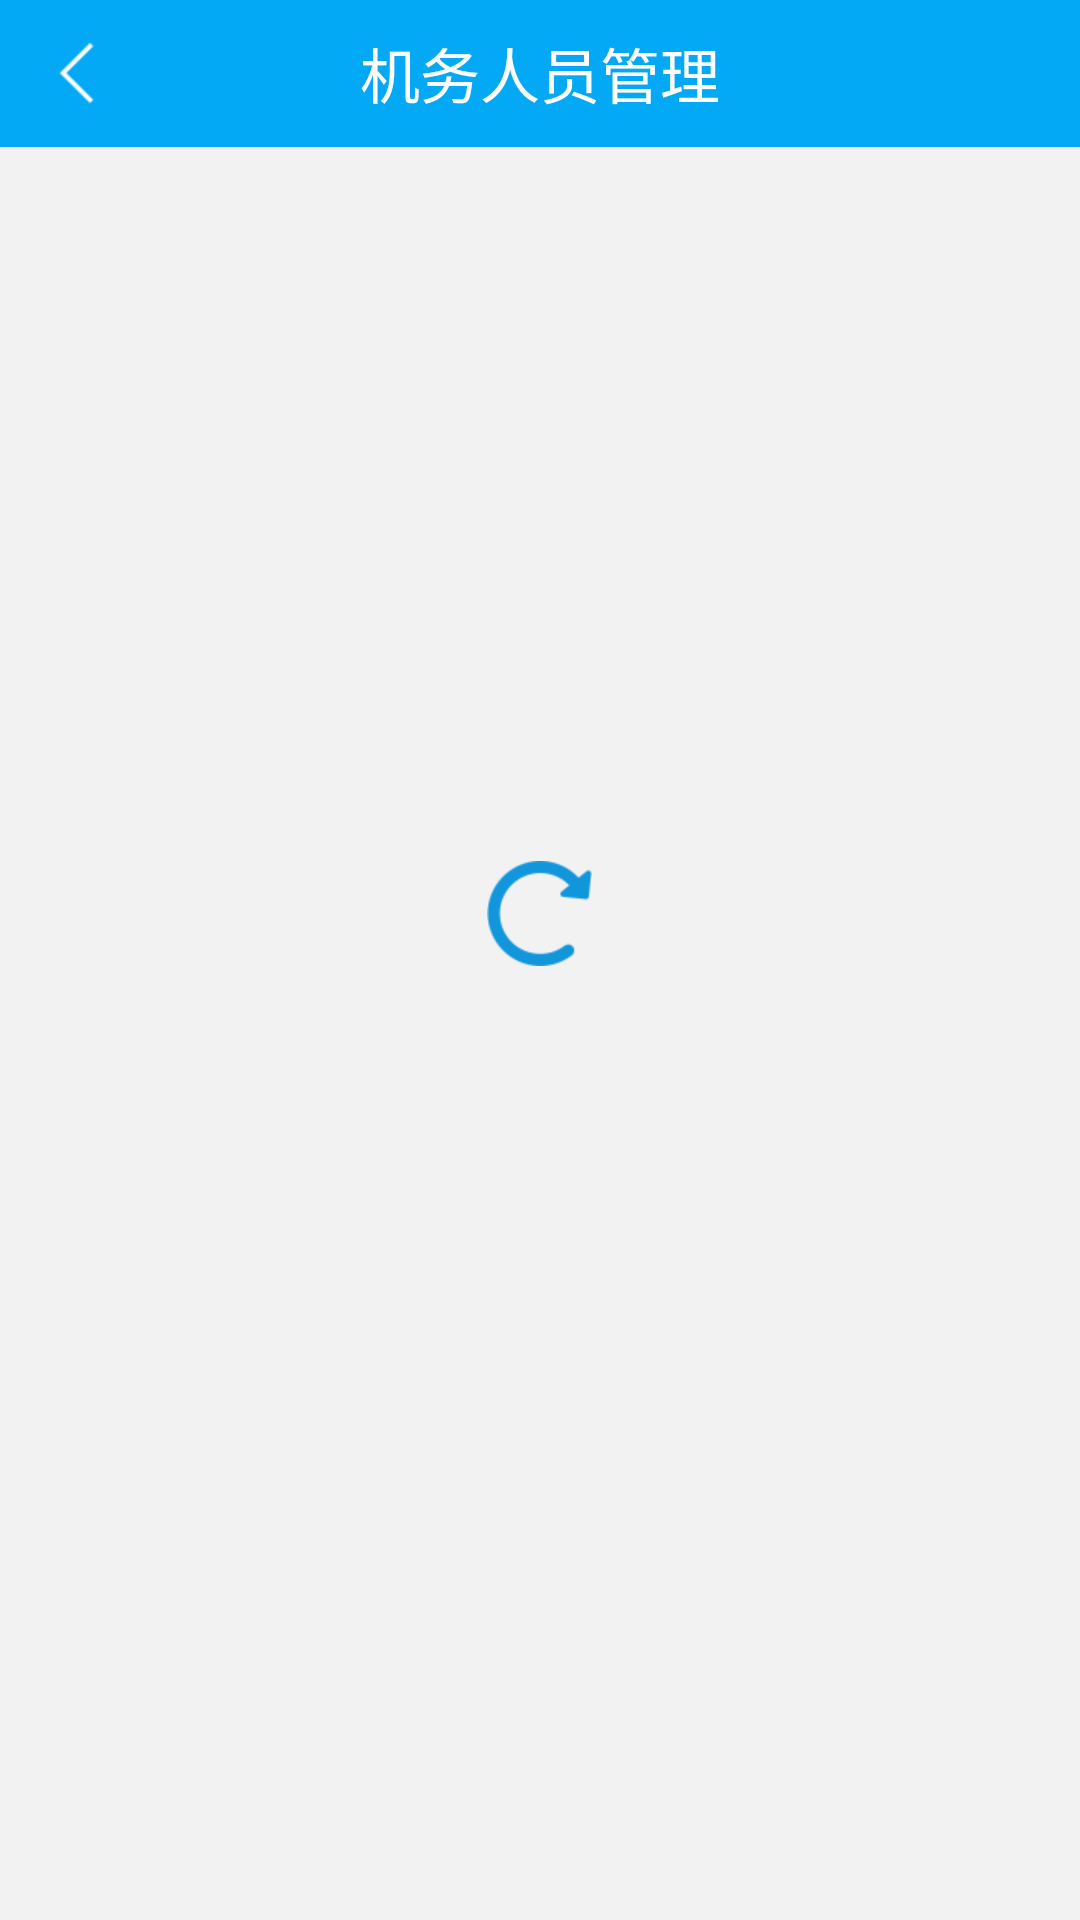

Icon bounding boxes for this 1080 × 1920 phone screenshot, format (left=x1, top=y1, right=x2, bottom=y2):
back: (left=59, top=43, right=94, bottom=103)
